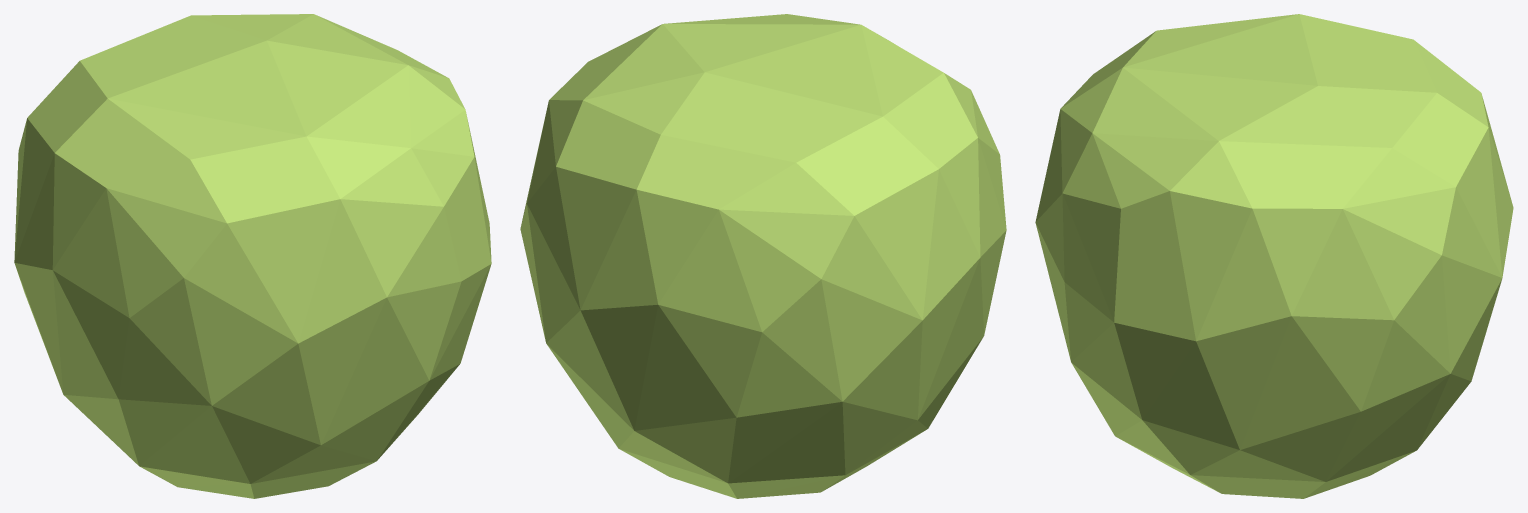
File: Bush_a_m_06.fbx
3 renders of one model, left to right at view 1: azimuth 30°, elevation 25°; view 2: azimuth 150°, elevation 25°; view 3: azimuth 270°, elevation 25°, orthographic.
Visible parts, largest first — view 1: Bush_a_m_06; view 2: Bush_a_m_06; view 3: Bush_a_m_06.
Part boxes in pixels (left/top/right/bottom): Bush_a_m_06: left=14, top=14, right=491, bottom=498; Bush_a_m_06: left=520, top=14, right=1006, bottom=498; Bush_a_m_06: left=1035, top=14, right=1513, bottom=498.
Size of the model in its own units: 147 by 140 by 147.
